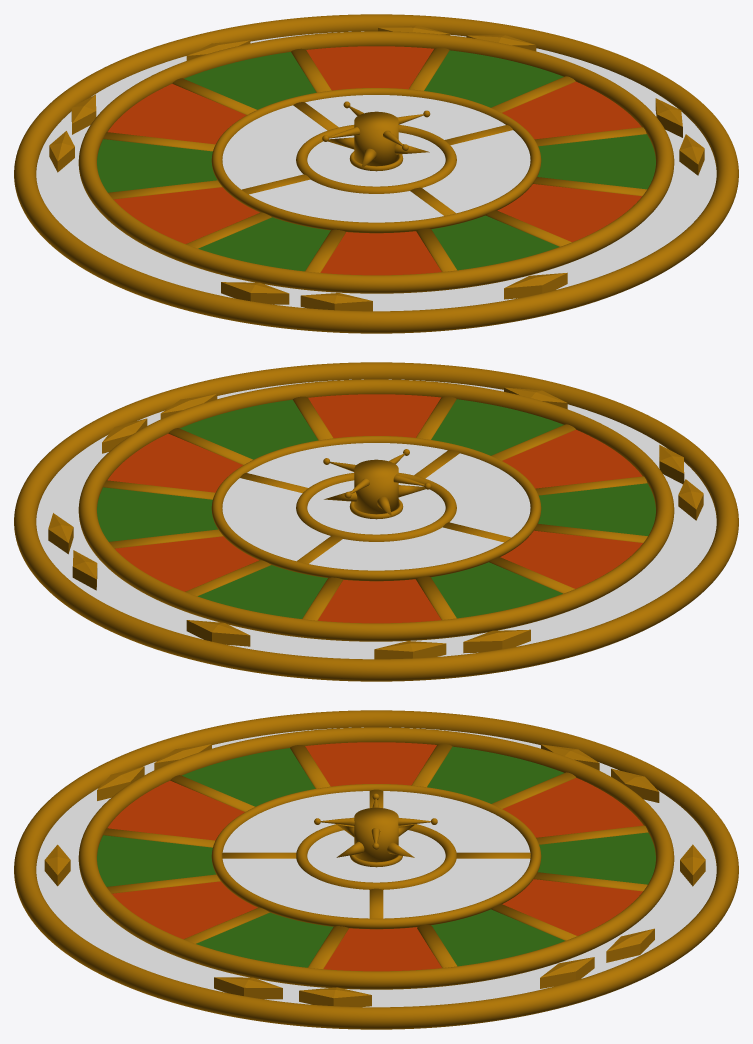
The picture shows the model from 3 angles, top to bottom: view 1: azimuth 30°, elevation 25°; view 2: azimuth 150°, elevation 25°; view 3: azimuth 270°, elevation 25°; orthographic projection.
Parts seen in each view (by area): view 1: BézierCircle.001, Red, Black, Base.001, BézierCircle, Base, BézierCircle.002, BézierCircle.003, Cylinder.009, Cube.018, Cube.016, Cube.017 (+16 smaller); view 2: BézierCircle.001, Red, Black, Base.001, BézierCircle, Base, BézierCircle.002, BézierCircle.003, Cylinder.009, Cube.023, Cube, Cube.024 (+18 smaller); view 3: BézierCircle.001, Red, Black, Base.001, BézierCircle, Base, BézierCircle.002, BézierCircle.003, Cylinder.009, Cube.021, Cube.022, Cube.020 (+19 smaller).
Part boxes in pixels (bbox=[...]): BézierCircle.001: bbox=[14, 14, 738, 333]; Red: bbox=[108, 46, 641, 275]; Black: bbox=[97, 50, 655, 271]; Base.001: bbox=[222, 95, 530, 222]; BézierCircle: bbox=[78, 31, 674, 293]; Base: bbox=[36, 31, 716, 311]; BézierCircle.002: bbox=[211, 88, 541, 233]; BézierCircle.003: bbox=[296, 125, 456, 193]; Cylinder.009: bbox=[354, 111, 398, 166]; Cube.018: bbox=[221, 282, 289, 304]; Cube.016: bbox=[504, 272, 567, 299]; Cube.017: bbox=[300, 293, 372, 311]; BézierCircle.001: bbox=[14, 362, 738, 681]; Red: bbox=[107, 394, 642, 623]; Black: bbox=[97, 399, 655, 618]; Base.001: bbox=[222, 443, 530, 570]; BézierCircle: bbox=[78, 379, 674, 641]; Base: bbox=[36, 379, 716, 659]; BézierCircle.002: bbox=[211, 436, 541, 581]; BézierCircle.003: bbox=[296, 473, 456, 541]; Cylinder.009: bbox=[354, 459, 398, 514]; Cube.023: bbox=[463, 629, 530, 653]; Cube: bbox=[186, 620, 250, 646]; Cube.024: bbox=[374, 641, 446, 659]; BézierCircle.001: bbox=[14, 710, 738, 1029]; Red: bbox=[107, 742, 643, 971]; Black: bbox=[97, 746, 655, 967]; Base.001: bbox=[222, 791, 530, 918]; BézierCircle: bbox=[78, 727, 674, 989]; Base: bbox=[36, 727, 716, 1007]; BézierCircle.002: bbox=[211, 784, 541, 929]; BézierCircle.003: bbox=[296, 824, 456, 889]; Cylinder.009: bbox=[354, 807, 398, 862]; Cube.021: bbox=[299, 987, 371, 1006]; Cube.022: bbox=[214, 977, 282, 999]; Cube.020: bbox=[540, 957, 594, 988].
Size of the model in its own units: 48413 by 4641 by 48413.
